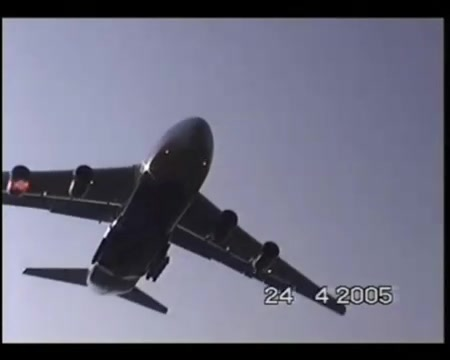aeroplane: (4, 117, 348, 317)
